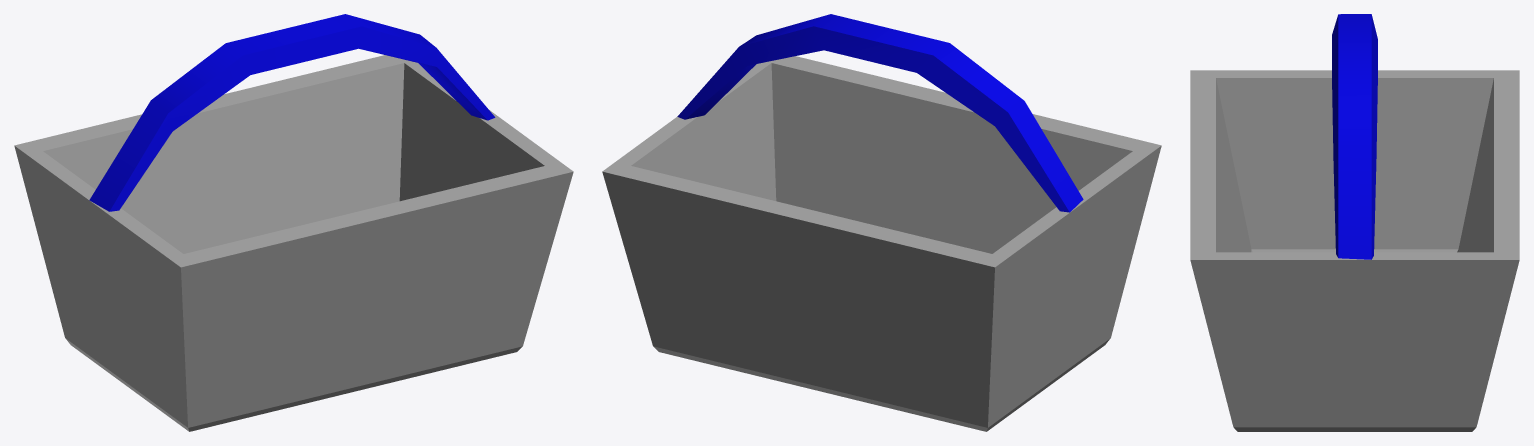
Rendered from Basket.fbx.
3 views of the same model, side by side, from view 1: azimuth 30°, elevation 25°; view 2: azimuth 150°, elevation 25°; view 3: azimuth 270°, elevation 25° (orthographic).
Visible parts, largest first — view 1: Basket, Handle; view 2: Basket, Handle; view 3: Basket, Handle.
Boxes of the visible parts, x1,y1,x2,y2 form: Basket: (14,55,573,431); Handle: (89,14,495,211); Basket: (602,56,1161,431); Handle: (677,14,1083,212); Basket: (1190,70,1519,431); Handle: (1332,14,1377,259).
Size of the model in its own units: 69.51 by 53.48 by 51.08.
